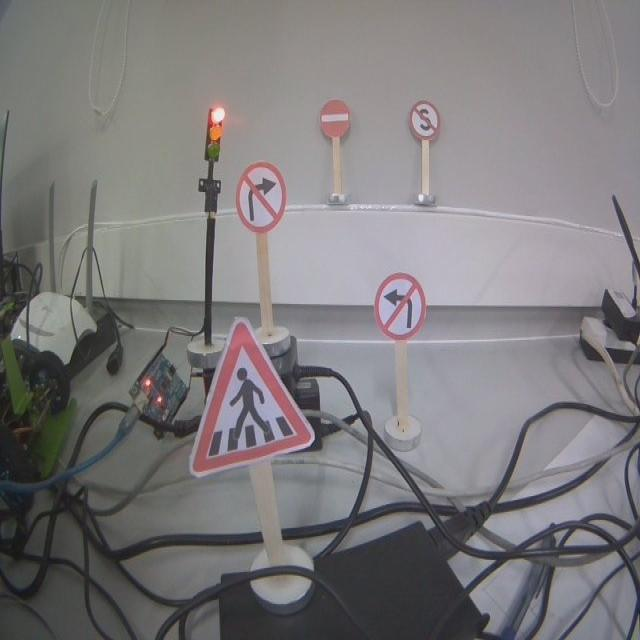Dilarang Belok Kanan: (235, 162, 287, 234)
Dilarang Belok Kiri: (374, 273, 425, 339)
Dilarang Masuk: (319, 100, 350, 139)
Lampu Merah: (205, 106, 224, 162)
Rambu Berhenti: (409, 100, 440, 140)
Rambu Penyebrangan: (190, 320, 313, 473)
